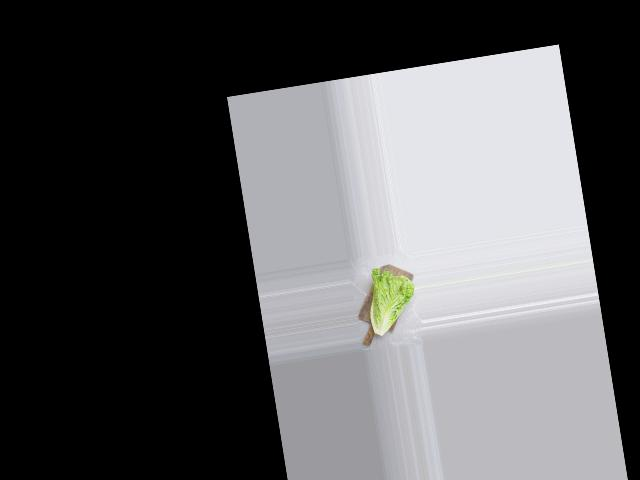lettuce: (355, 263, 421, 341)
